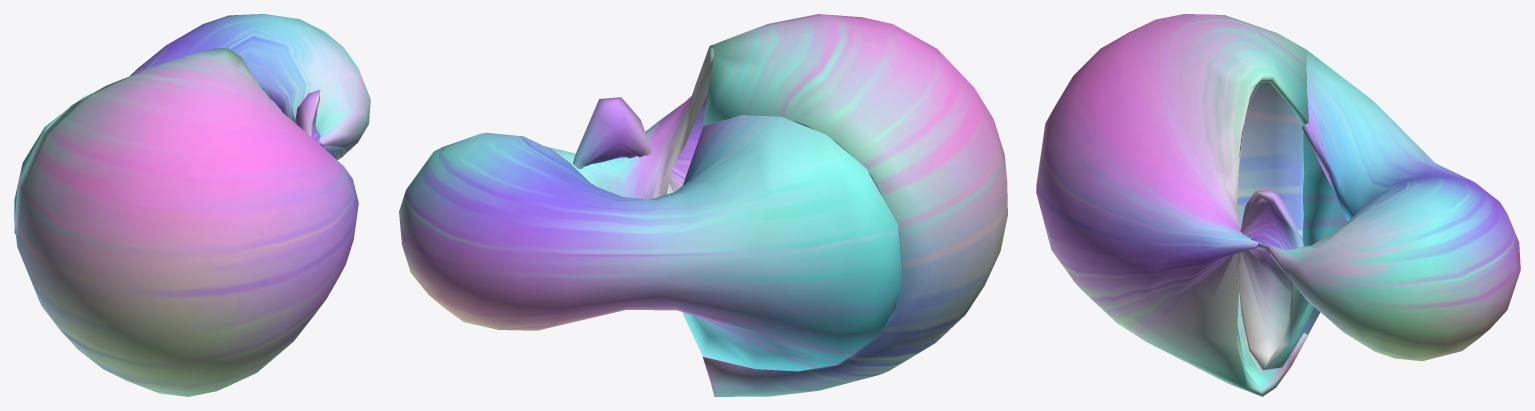
Rendered from randomshape4.glb.
3 views of the same model, side by side, from view 1: azimuth 30°, elevation 25°; view 2: azimuth 150°, elevation 25°; view 3: azimuth 270°, elevation 25° (orthographic). The views are drawn at different scales.
Parts seen in each view (by area): view 1: SuperShapesMesh.004; view 2: SuperShapesMesh.004; view 3: SuperShapesMesh.004.
Part boxes in pixels (left/top/right/bottom): SuperShapesMesh.004: left=14, top=14, right=370, bottom=396; SuperShapesMesh.004: left=399, top=14, right=1007, bottom=396; SuperShapesMesh.004: left=1036, top=14, right=1520, bottom=396.
Size of the model in its own units: 6.29 by 4.84 by 6.33.
Materials: 1 (1 with a texture image).
